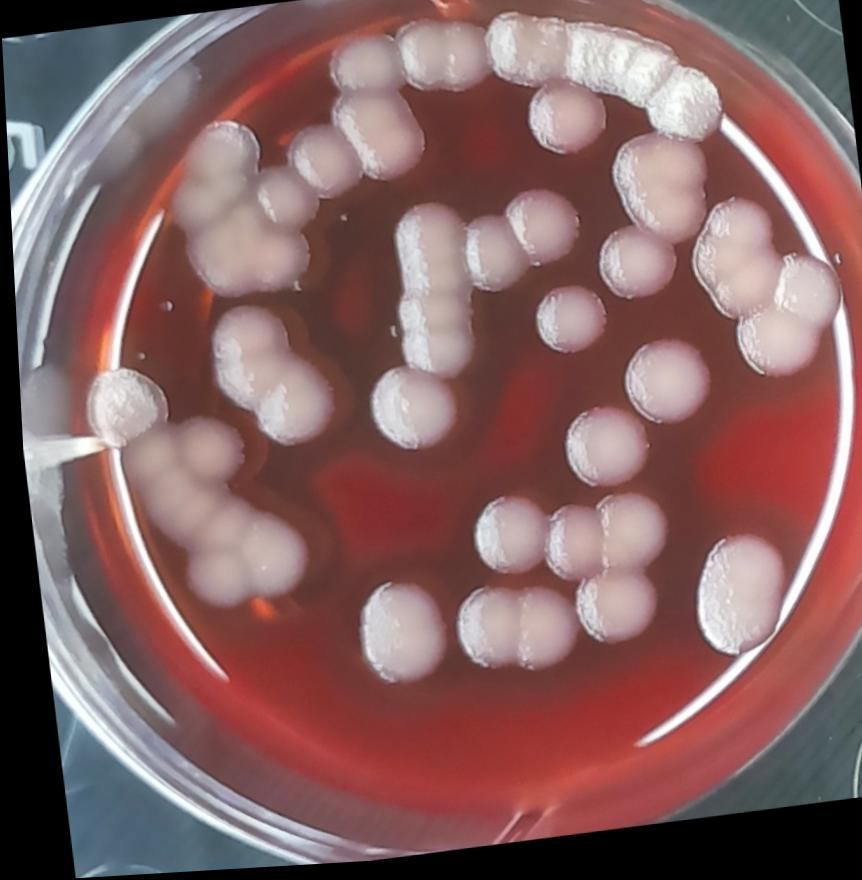bcereus: (105, 406, 327, 638), (479, 0, 733, 179), (677, 192, 862, 418), (187, 289, 351, 471), (662, 499, 815, 683), (435, 568, 585, 698), (332, 571, 454, 708), (318, 89, 442, 195), (318, 24, 411, 110)
